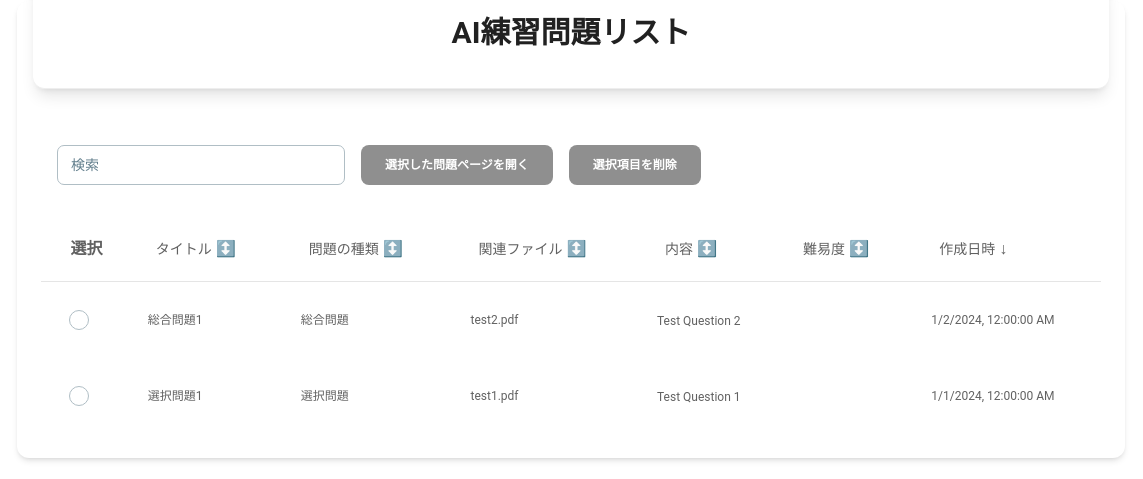
Test: ExerciseSelectComponent › 検索機能が正しく動作すること
Expected: the text "選択問題1" is shown, [148, 389, 203, 403]
Step 1. Type "総合" into the search field → [201, 165], box [57, 145, 345, 185]
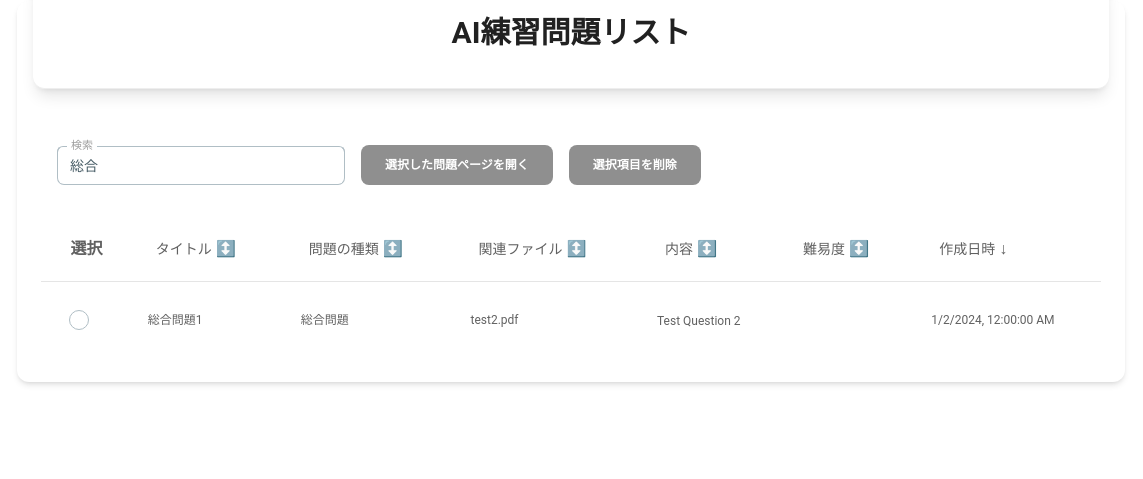
Expected: the text "総合問題1" is shown, [148, 313, 203, 327]
Expected: the text "選択問題1" is gone
